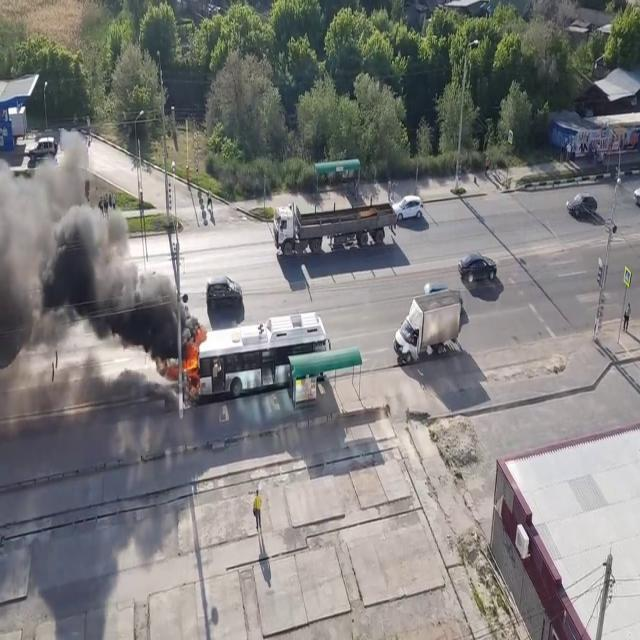Fire: (184, 333, 202, 383)
Smoke: (0, 114, 179, 358)
